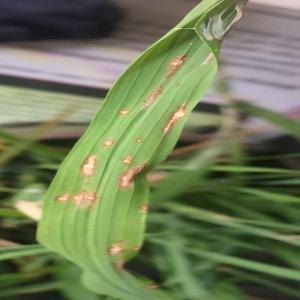1 RiceBlast: (59, 148, 106, 191), (160, 100, 198, 142), (53, 187, 104, 215), (114, 162, 153, 196), (133, 78, 172, 111), (158, 44, 191, 78), (82, 131, 124, 157), (116, 139, 142, 167), (100, 234, 130, 257), (116, 101, 136, 128)
